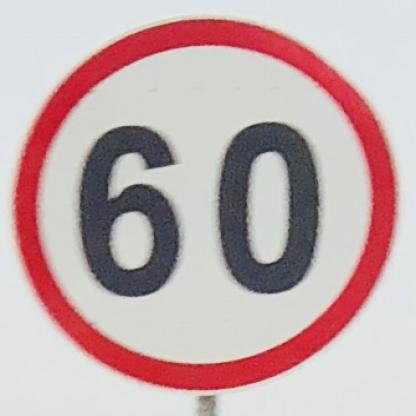Speed Limit -60 kmph-: (14, 18, 397, 393)
